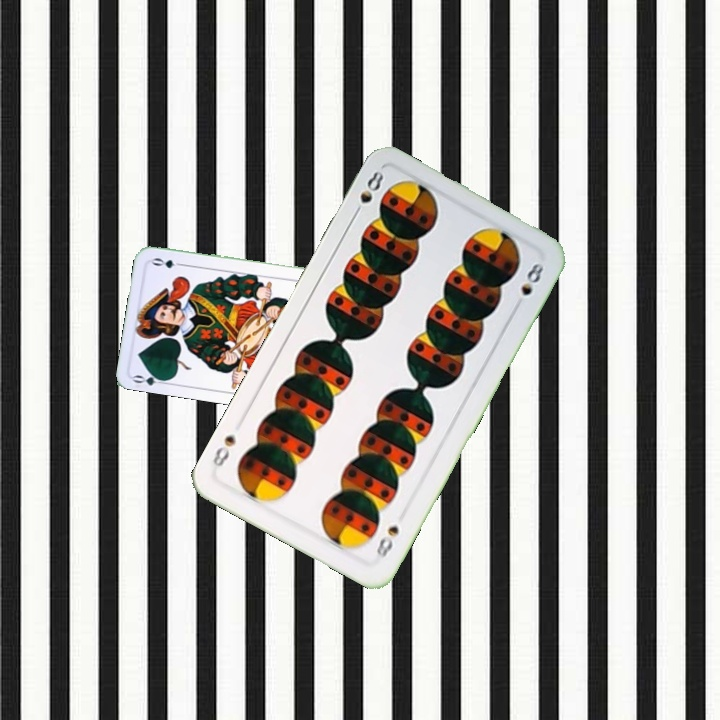GO: (130, 368, 171, 388)
S8: (349, 167, 387, 221), (372, 521, 402, 561)
